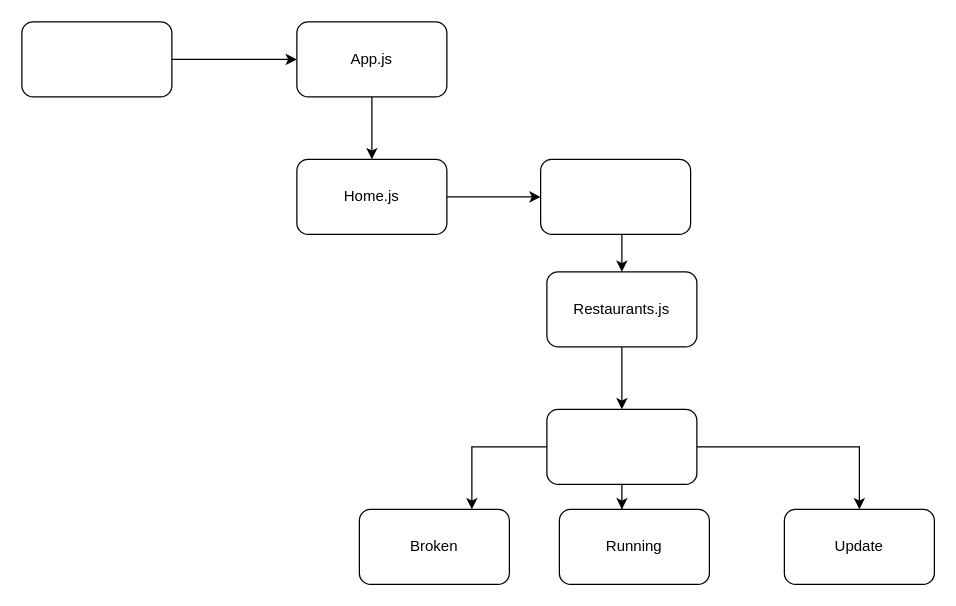
Some shapes in this 956 by 606 pixel diagram are drawn without their labels. The box of each missing label's shape, as (x1, y1, x2, y2) in pixels:
CLT_Neighborhoods.js: (539, 158, 691, 234)
index.js: (21, 21, 172, 97)
Machine: (546, 408, 697, 484)
